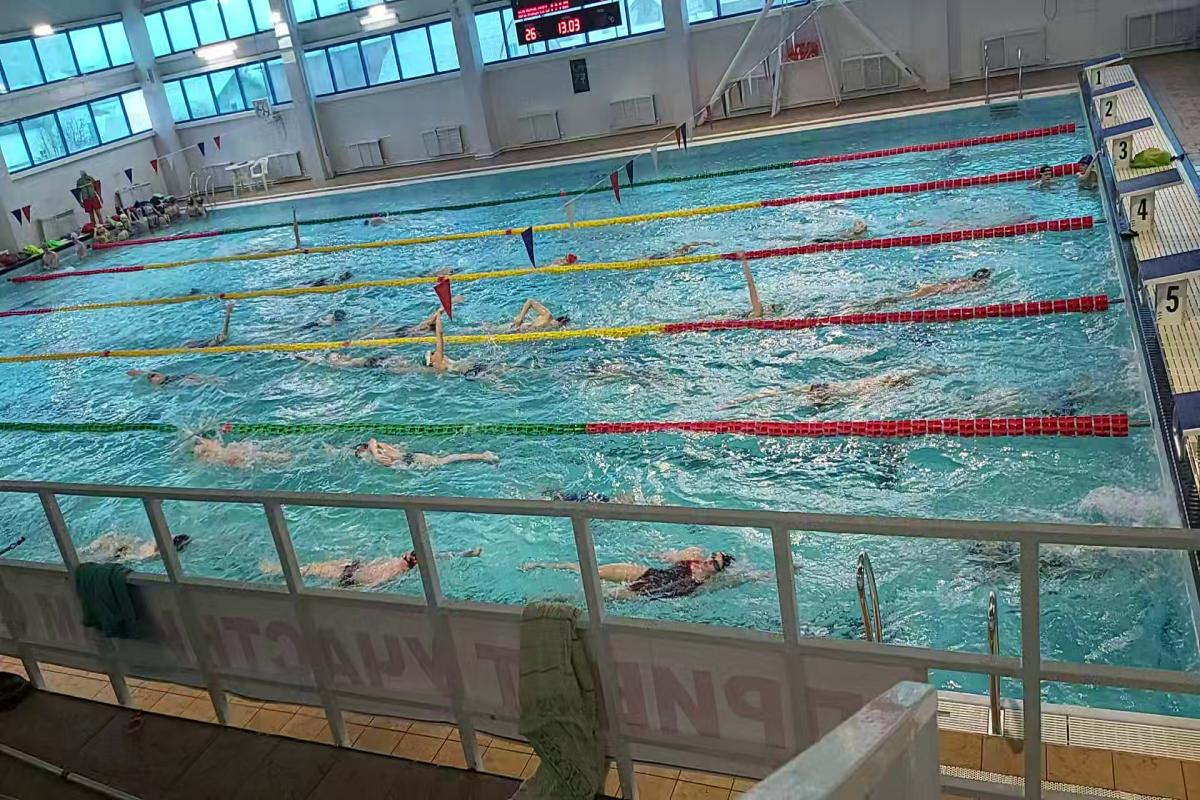swimmer: (574, 534, 745, 610), (261, 532, 436, 595), (333, 434, 503, 479), (890, 251, 1002, 312), (758, 372, 925, 407), (186, 431, 292, 481), (87, 524, 203, 566), (414, 339, 498, 395), (133, 355, 234, 395), (496, 295, 576, 335), (726, 270, 788, 318), (805, 206, 890, 240), (186, 309, 230, 347), (301, 303, 357, 330), (303, 268, 362, 290), (1027, 158, 1059, 195), (1072, 152, 1099, 194), (552, 243, 582, 266)
